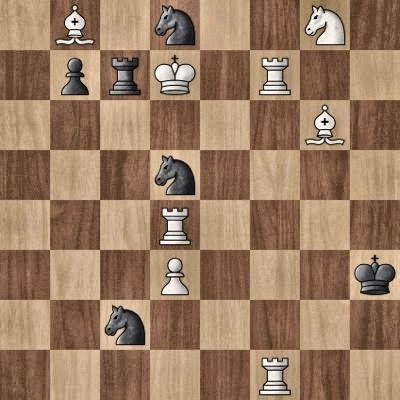black-king: (350, 250, 400, 300)
black-knight: (150, 0, 200, 50), (150, 150, 200, 200), (100, 300, 150, 350)
black-pawn: (50, 50, 100, 100)
black-rook: (100, 50, 150, 100)
white-bishop: (50, 0, 100, 50), (300, 100, 350, 150)
white-king: (150, 50, 200, 100)
white-knight: (300, 0, 350, 50)
white-pawn: (150, 250, 200, 300)
white-rook: (250, 50, 300, 100), (150, 200, 200, 250), (250, 350, 300, 400)
